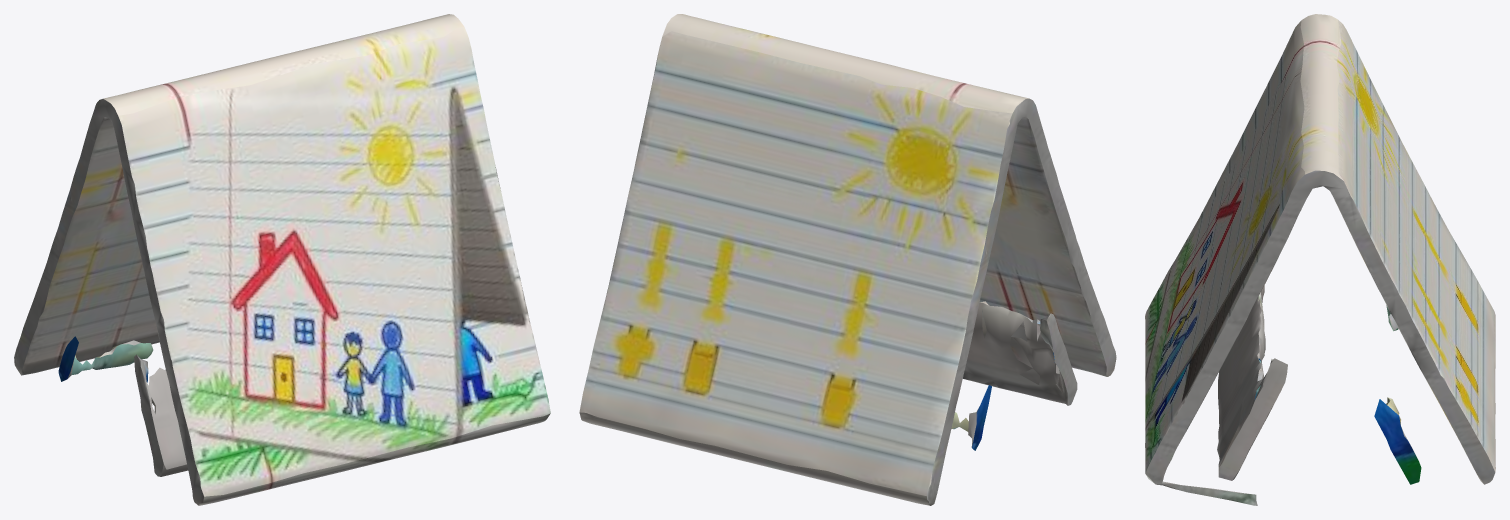
The model's file is diary_page.glb.
The picture shows the model from 3 angles, left to right: view 1: azimuth 30°, elevation 25°; view 2: azimuth 150°, elevation 25°; view 3: azimuth 270°, elevation 25°; orthographic projection. The views are drawn at different scales.
Visible parts, largest first — view 1: diary_page2; view 2: diary_page2; view 3: diary_page2.
Boxes of the visible parts, x1,y1,x2,y2 form: diary_page2: (14, 14, 550, 505); diary_page2: (579, 14, 1116, 505); diary_page2: (1145, 14, 1495, 505).
Size of the model in its own units: 1 by 0.9963 by 0.943.
1 material, 1 textured.
